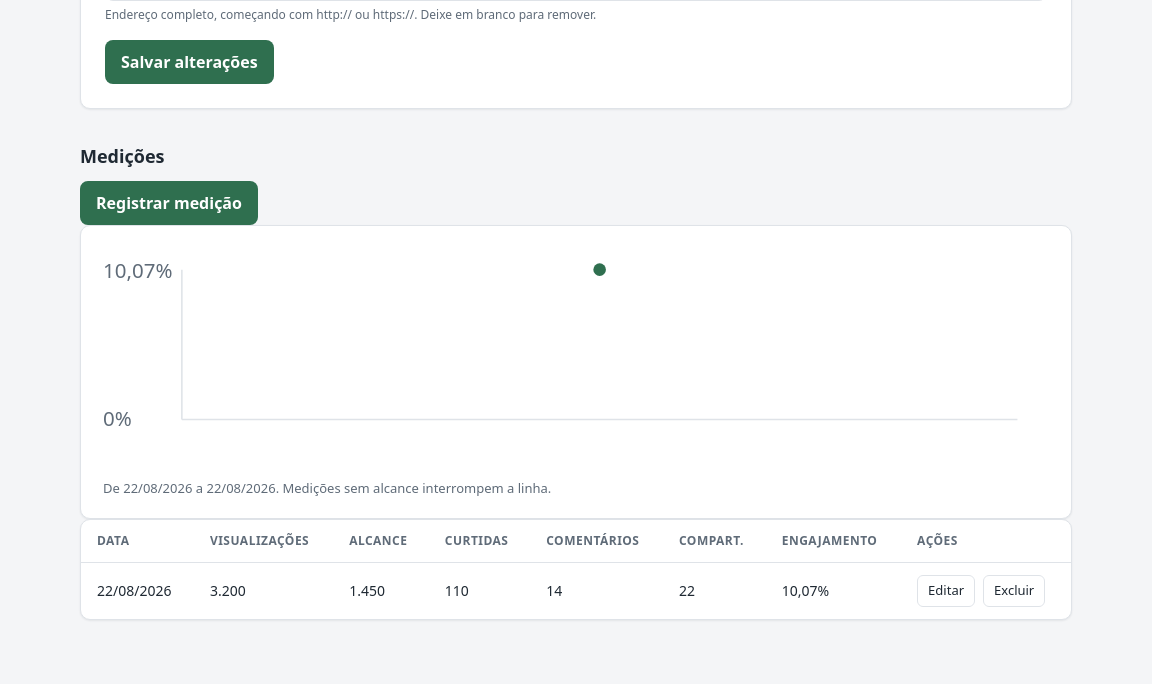
Test: ConteudoDetalhe › exclui a medição só no segundo clique
(page scrolled)
Click the button "Excluir" at (1014, 591), box x1=983 y1=575 x2=1045 y2=607
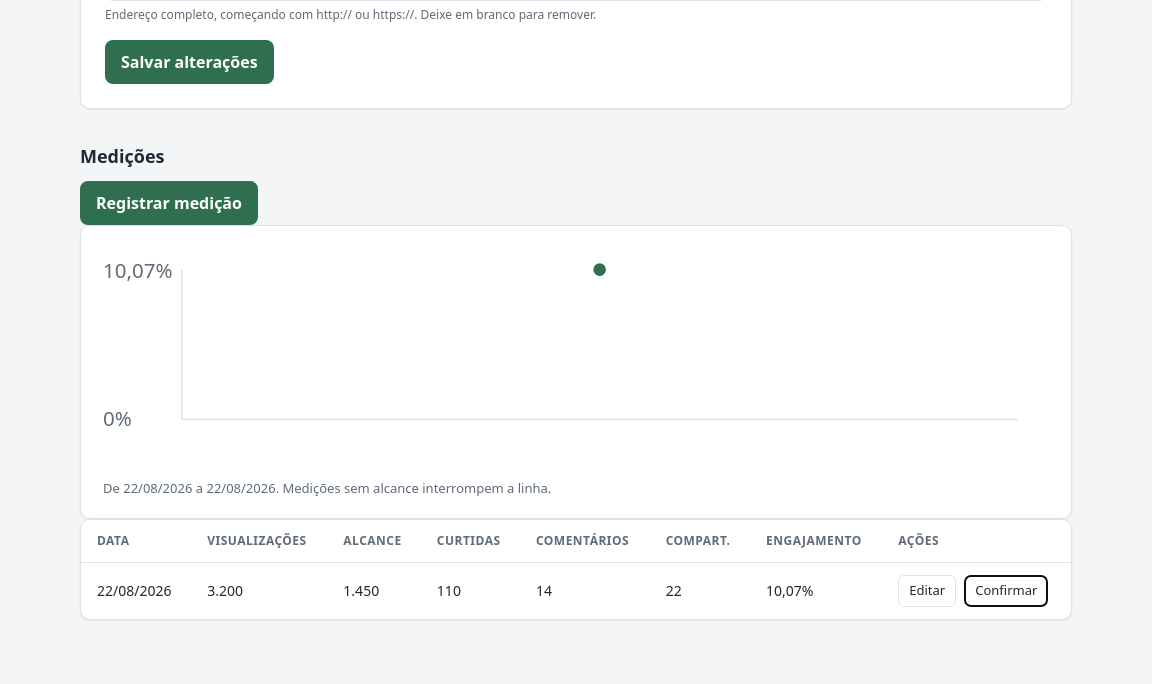
Click the button "Confirmar" at (1006, 591), box x1=964 y1=575 x2=1048 y2=607
(page scrolled)
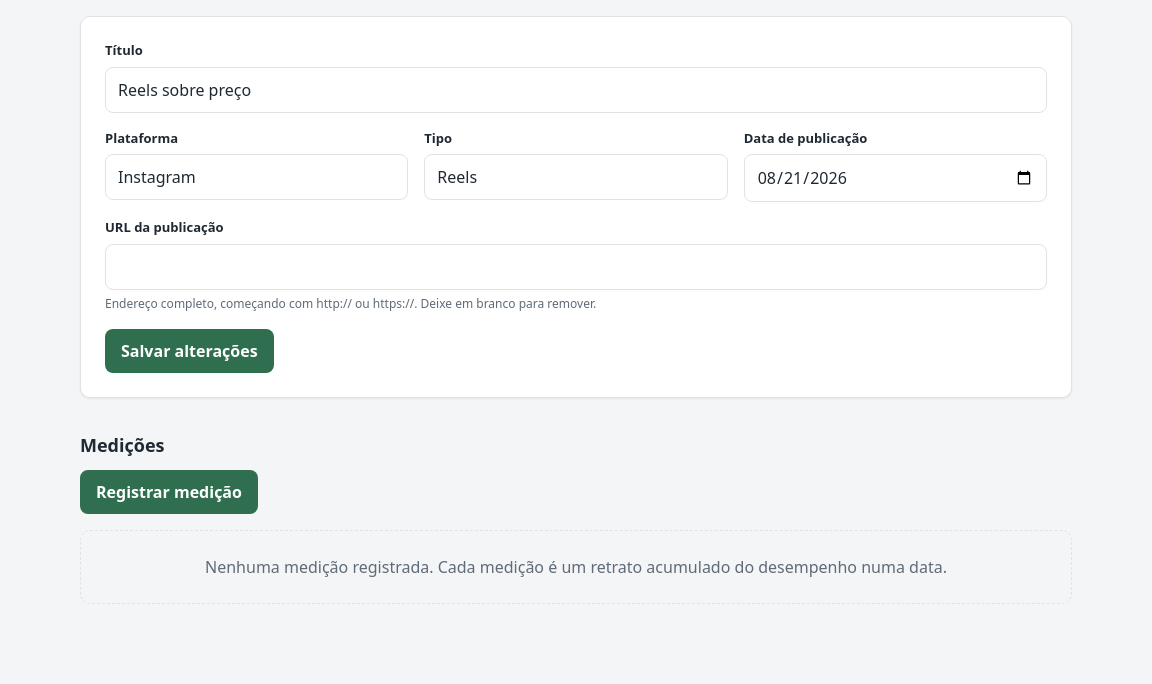
Check: the text "Nenhuma medição registrada" is shown, box x1=205 y1=556 x2=947 y2=578
